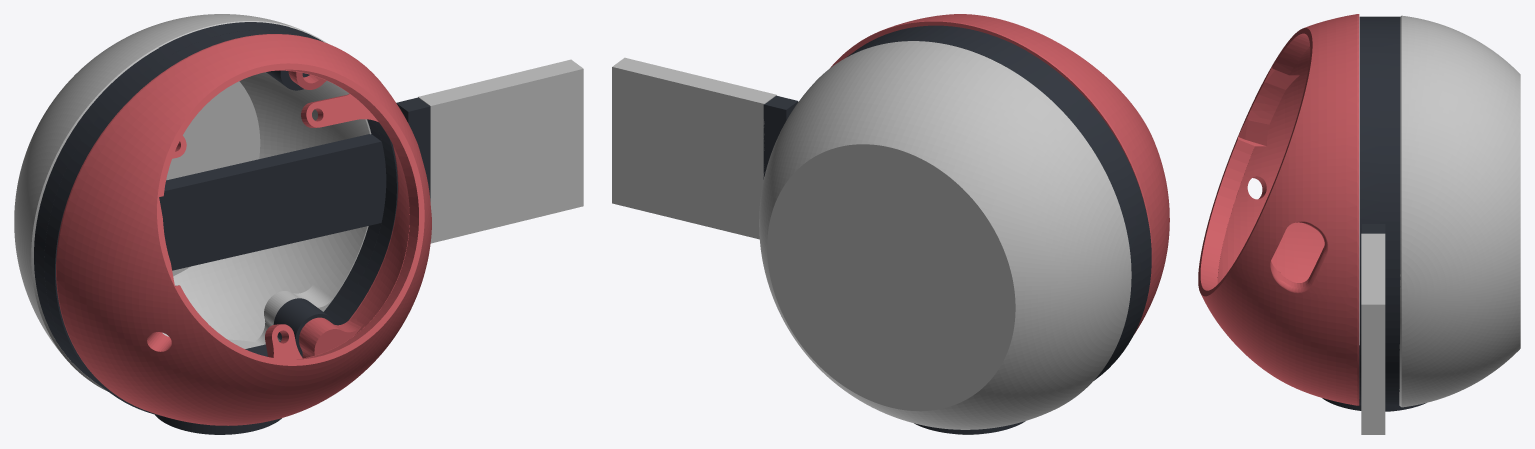
The model's file is poketama-poke-battery.glb.
The picture shows the model from 3 angles, left to right: view 1: azimuth 30°, elevation 25°; view 2: azimuth 150°, elevation 25°; view 3: azimuth 270°, elevation 25°; orthographic projection. The views are drawn at different scales.
Size of the model in its own units: 2 by 1.41 by 1.11.
